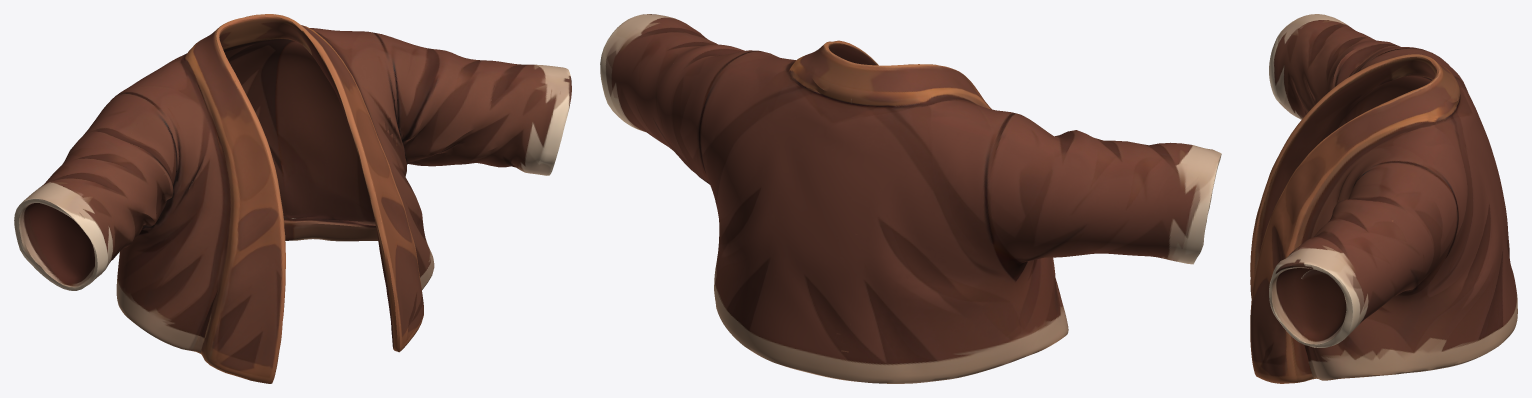
Rendered from ataho-jacket.glb.
3 renders of one model, left to right at view 1: azimuth 30°, elevation 25°; view 2: azimuth 150°, elevation 25°; view 3: azimuth 270°, elevation 25°, orthographic. The views are drawn at different scales.
Bounding box in the file's own units: 1.9 × 0.9422 × 0.8265.
1 material, 1 textured.
